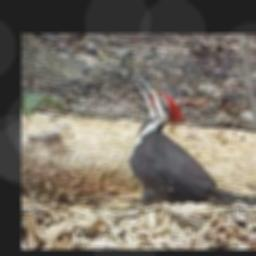Woodpecker: (128, 77, 256, 206)
